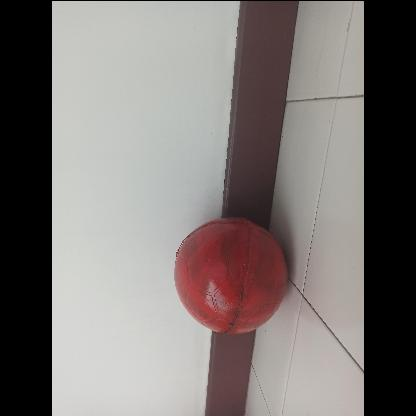red_ball: (172, 219, 286, 333)
